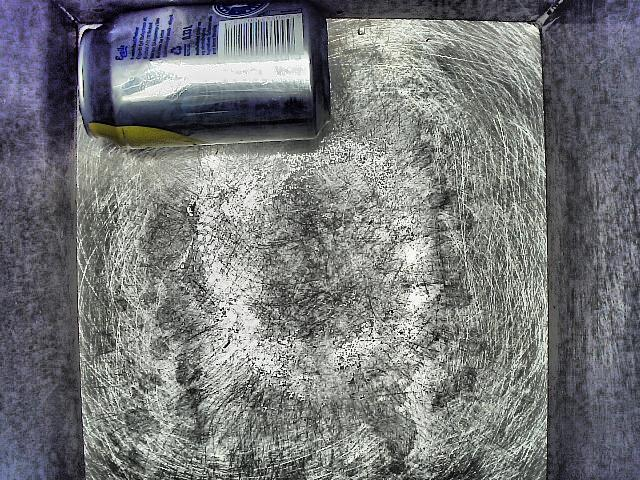Bottles: (73, 0, 352, 171)
